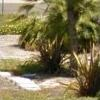Palm tree: (22, 1, 92, 80)
